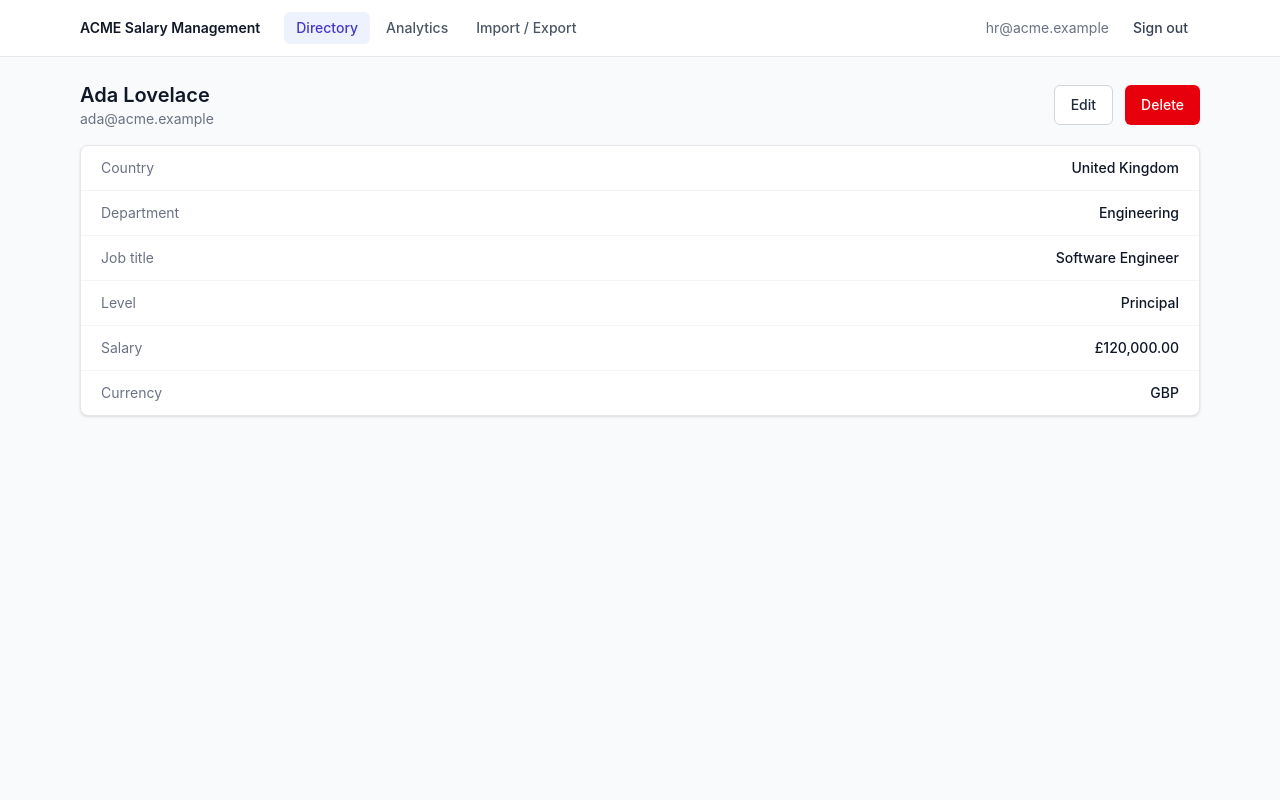
Scenario: accessibility › gives the delete confirm dialog an accessible name, traps focus, and closes on Escape
Click the button "Delete" at (1163, 105), box [1125,85,1200,125]
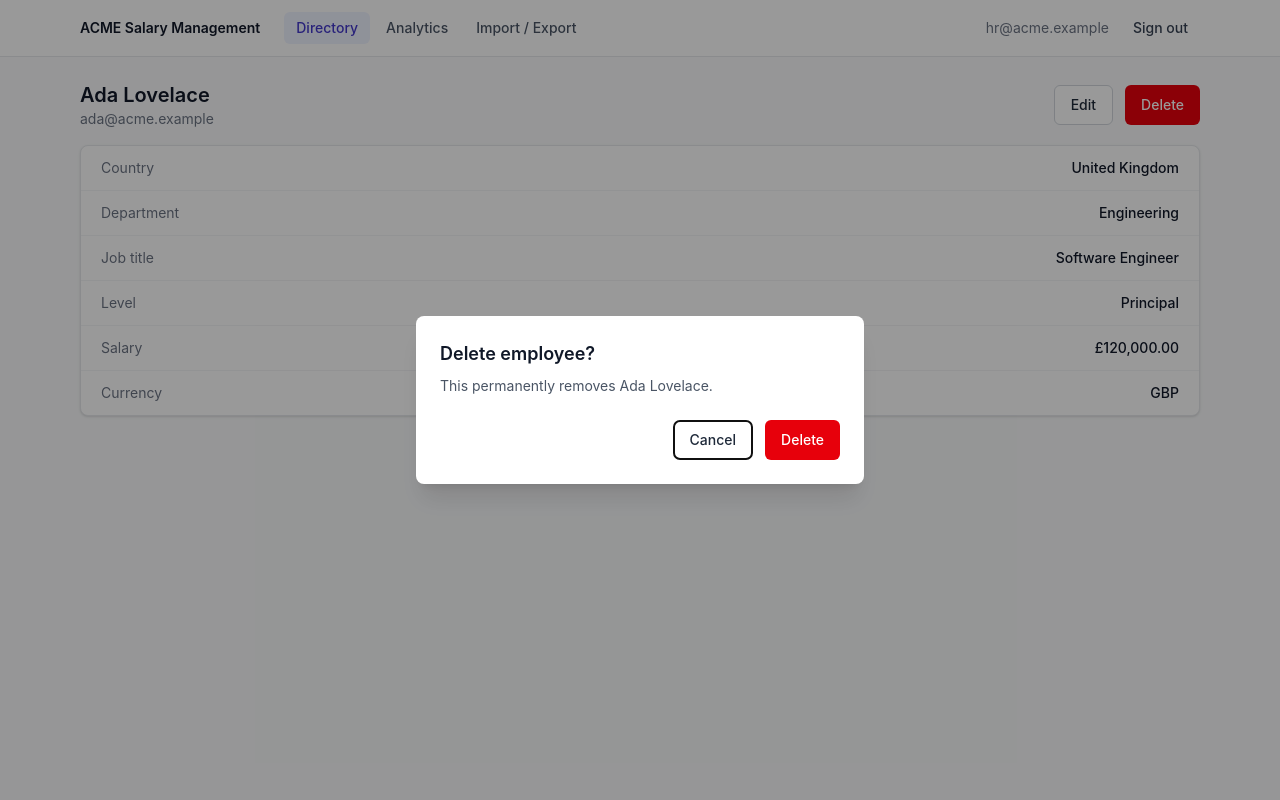
Press Escape
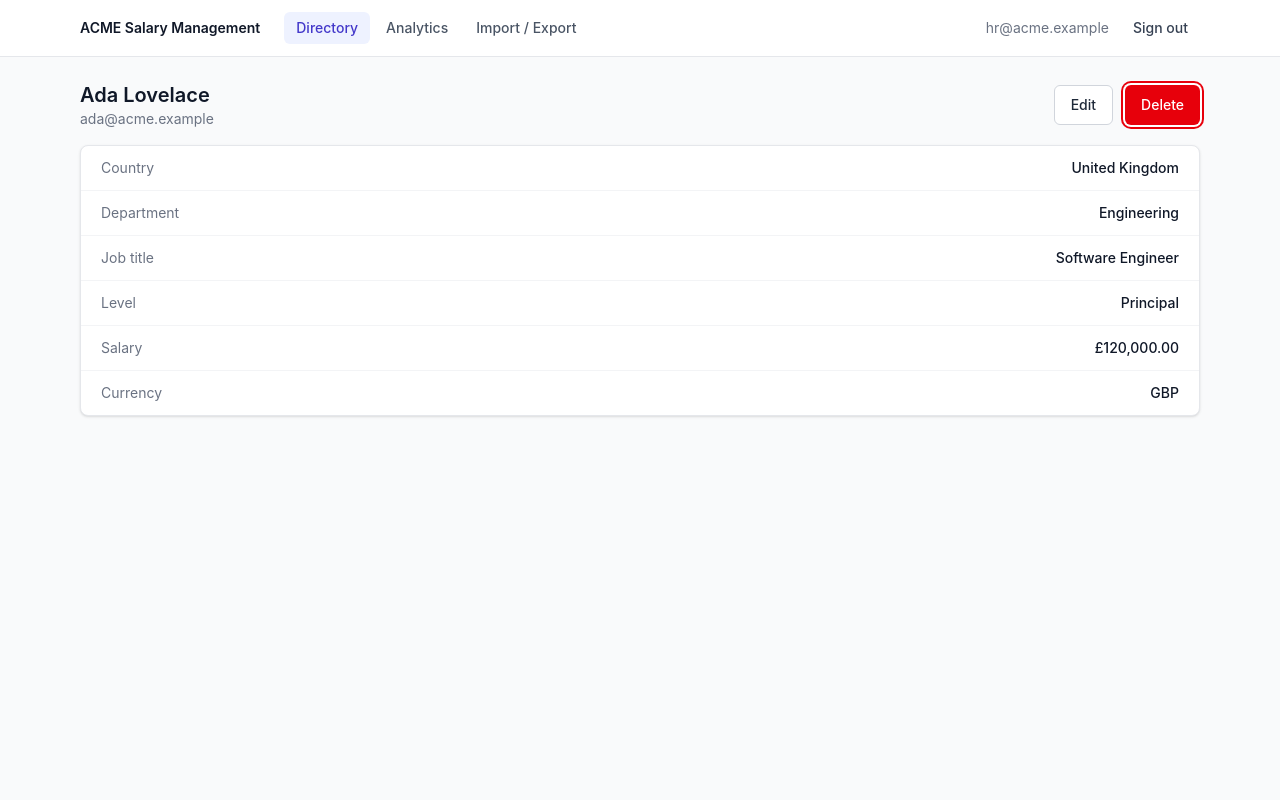
Result: the dialog is gone
